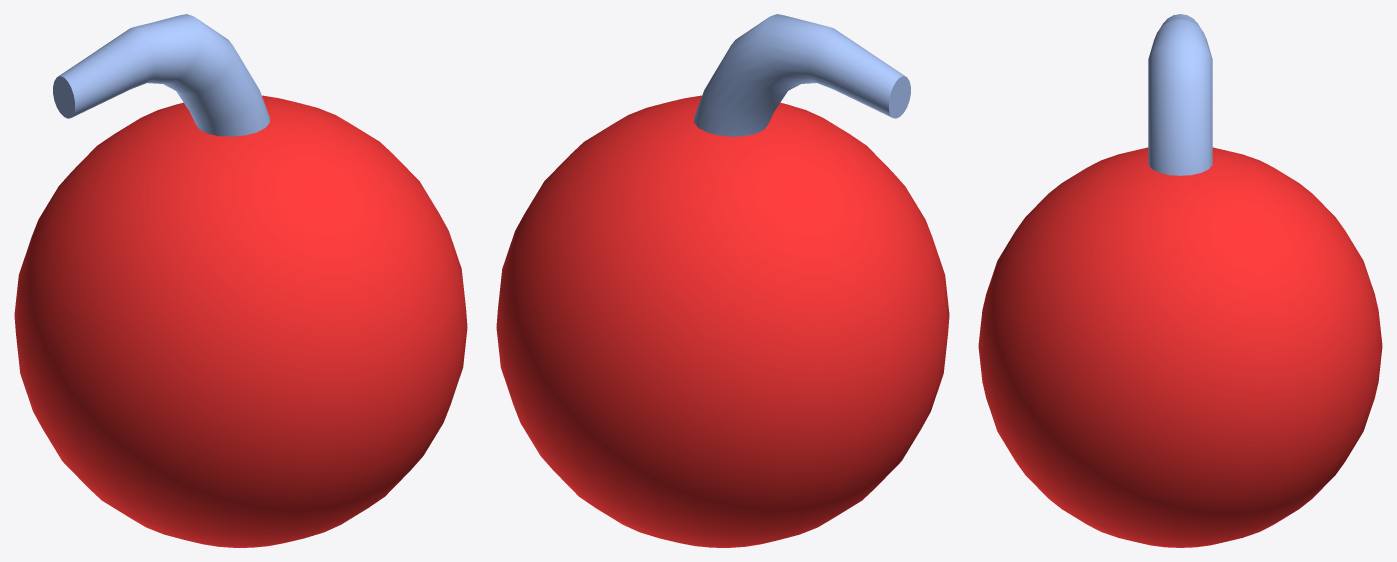
Rendered from Box_Bomb_01.fbx.
3 views of the same model, side by side, from view 1: azimuth 30°, elevation 25°; view 2: azimuth 150°, elevation 25°; view 3: azimuth 270°, elevation 25° (orthographic). The views are drawn at different scales.
Parts seen in each view (by area): view 1: Box_Bomb_01; view 2: Box_Bomb_01; view 3: Box_Bomb_01.
Boxes of the visible parts, x1,y1,x2,y2 form: Box_Bomb_01: (14, 14, 467, 547); Box_Bomb_01: (496, 14, 949, 547); Box_Bomb_01: (978, 14, 1382, 547).
Bounding box in the file's own units: 18.74 × 23.8 × 18.74.
